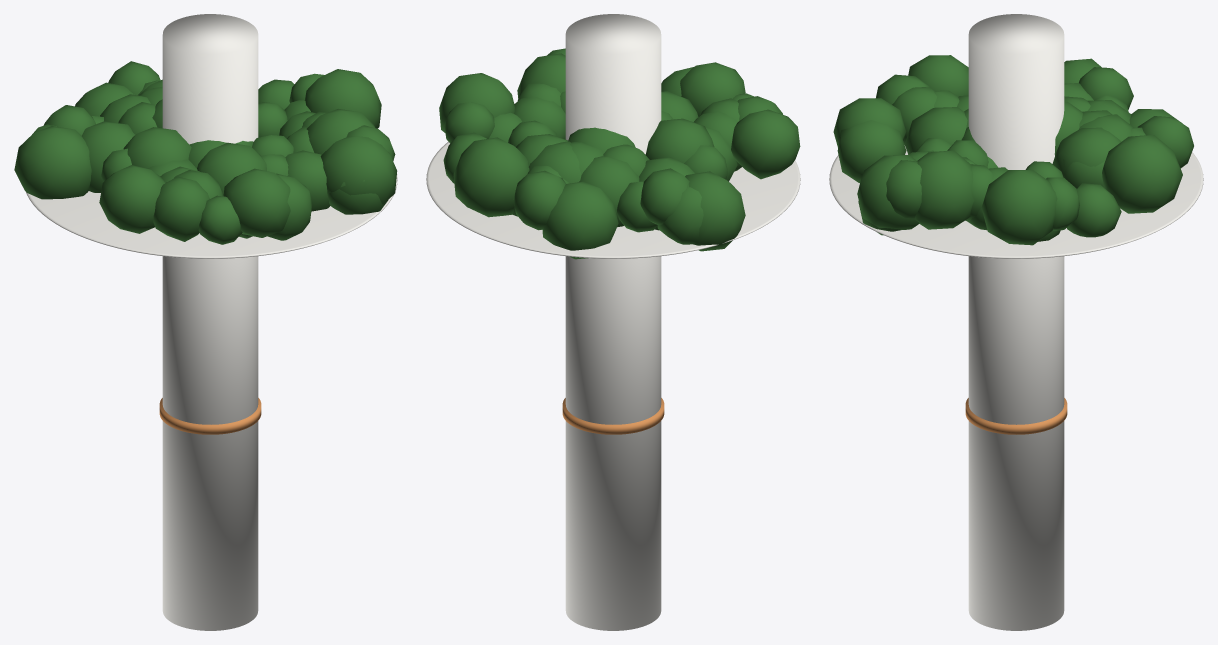
The model's file is test_tower.glb.
3 renders of one model, left to right at view 1: azimuth 30°, elevation 25°; view 2: azimuth 150°, elevation 25°; view 3: azimuth 270°, elevation 25°, orthographic.
Parts seen in each view (by area): view 1: Cylinder, Cone, Icosphere.047, Icosphere.014, Icosphere.007, Icosphere.012, Icosphere.046, Icosphere.004, Icosphere.041, Icosphere.015, Icosphere.045, Icosphere.051 (+16 smaller); view 2: Cylinder, Cone, Icosphere.057, Icosphere.018, Icosphere.012, Icosphere.047, Icosphere.046, Icosphere.007, Icosphere.055, Icosphere.041, Icosphere.008, Icosphere.038 (+21 smaller); view 3: Cylinder, Cone, Icosphere.057, Icosphere.046, Icosphere.051, Icosphere.048, Icosphere.014, Icosphere.017, Icosphere.042, Icosphere.015, Icosphere.012, Icosphere.020 (+13 smaller).
Boxes of the visible parts, <box> form: Cylinder: <box>162,14,258,630</box>; Cone: <box>26,174,397,258</box>; Icosphere.047: <box>14,126,91,199</box>; Icosphere.014: <box>320,136,397,204</box>; Icosphere.007: <box>223,168,290,237</box>; Icosphere.012: <box>99,165,164,233</box>; Icosphere.046: <box>304,69,381,128</box>; Icosphere.004: <box>153,176,209,241</box>; Icosphere.041: <box>123,127,191,168</box>; Icosphere.015: <box>197,142,266,194</box>; Icosphere.045: <box>82,121,135,192</box>; Icosphere.051: <box>306,109,375,154</box>; Cylinder: <box>565,14,661,630</box>; Cone: <box>426,142,800,258</box>; Icosphere.057: <box>453,137,528,217</box>; Icosphere.018: <box>542,181,618,259</box>; Icosphere.012: <box>731,109,800,179</box>; Icosphere.047: <box>685,171,745,251</box>; Icosphere.046: <box>439,73,514,132</box>; Icosphere.007: <box>680,62,745,116</box>; Icosphere.055: <box>513,170,565,230</box>; Icosphere.041: <box>645,118,714,163</box>; Icosphere.008: <box>640,168,689,225</box>; Icosphere.038: <box>579,156,639,227</box>; Cylinder: <box>968,14,1064,630</box>; Cone: <box>829,145,1203,258</box>; Icosphere.057: <box>1102,135,1182,213</box>; Icosphere.046: <box>981,170,1057,245</box>; Icosphere.051: <box>914,150,974,229</box>; Icosphere.048: <box>837,120,906,182</box>; Icosphere.014: <box>857,155,919,229</box>; Icosphere.017: <box>1067,183,1121,237</box>; Icosphere.042: <box>1052,127,1121,177</box>; Icosphere.015: <box>904,107,967,154</box>; Icosphere.012: <box>908,55,968,96</box>; Icosphere.020: <box>886,160,921,218</box>.
Size of what is drawn, in the model's own units: 23.9 by 40 by 23.53.
